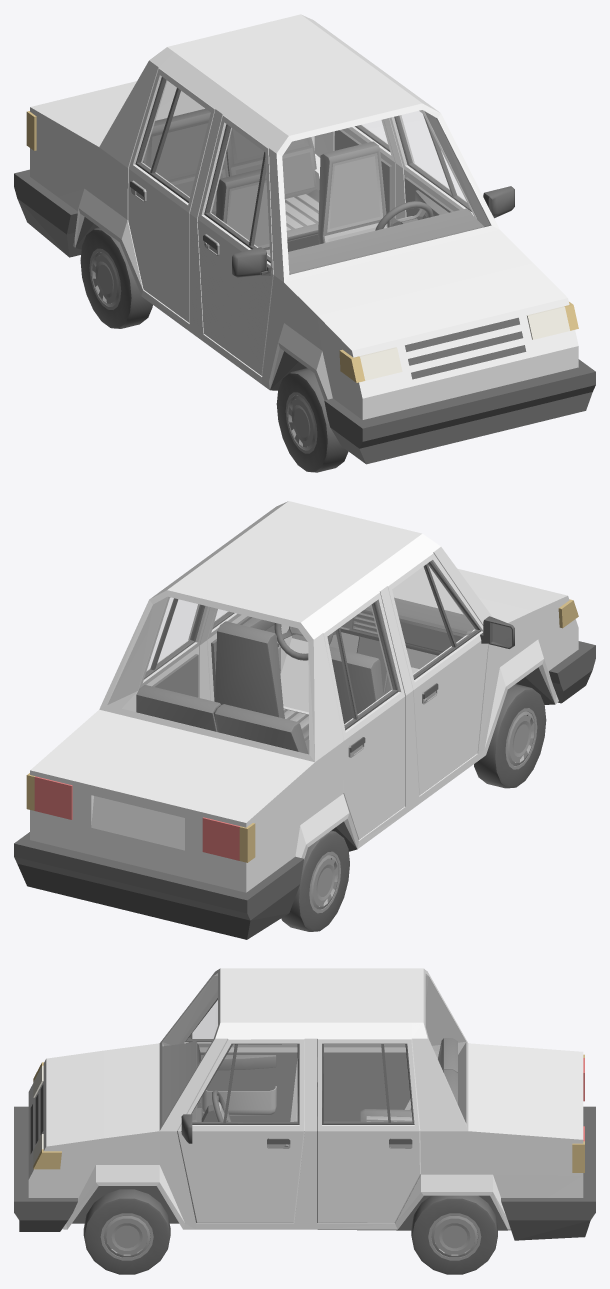
3 renders of one model, top to bottom at view 1: azimuth 30°, elevation 25°; view 2: azimuth 150°, elevation 25°; view 3: azimuth 270°, elevation 25°, orthographic. The views are drawn at different scales.
Visible parts, largest first — view 1: Chassis_Chassis_0, Windows_Windows_0, Chassis_Bumpers_0, Interior_InteriorPanel_0, FR_Door_Chassis_0, RR_Door_Chassis_0, Interior_Handler_0, RR_Door_Windows_0, FR_Door_Windows_0, FR_Wheel_Tire_0, RR_Wheel_Tire_0, FR_Door_Bumpers_0 (+11 smaller); view 2: Chassis_Chassis_0, Windows_Windows_0, Chassis_Bumpers_0, Interior_InteriorPanel_0, FR_Door_Chassis_0, RR_Door_Chassis_0, FR_Door_Windows_0, RR_Door_Windows_0, FR_Wheel_Tire_0, RR_Wheel_Tire_0, Brake_Lights_Brake_lights_0, FR_Door_Bumpers_0 (+11 smaller); view 3: Chassis_Chassis_0, FL_Door_Chassis_0, RL_Door_Chassis_0, Chassis_Bumpers_0, Windows_Windows_0, FL_Door_Windows_0, RL_Door_Windows_0, RR_Door_InteriorPanel_0, FL_Wheel_Tire_0, RL_Wheel_Tire_0, FR_Door_InteriorPanel_0, Interior_InteriorPanel_0 (+9 smaller).
Part boxes in pixels (left/top/right/bottom): Chassis_Chassis_0: left=30, top=14, right=578, bottom=419; Windows_Windows_0: left=156, top=82, right=489, bottom=273; Chassis_Bumpers_0: left=14, top=169, right=595, bottom=464; Interior_InteriorPanel_0: left=142, top=108, right=484, bottom=274; FR_Door_Chassis_0: left=197, top=115, right=273, bottom=375; RR_Door_Chassis_0: left=128, top=68, right=215, bottom=322; Interior_Handler_0: left=226, top=153, right=386, bottom=255; RR_Door_Windows_0: left=139, top=80, right=209, bottom=198; FR_Door_Windows_0: left=208, top=127, right=269, bottom=258; FR_Wheel_Tire_0: left=276, top=368, right=348, bottom=472; RR_Wheel_Tire_0: left=80, top=227, right=152, bottom=328; FR_Door_Bumpers_0: left=203, top=124, right=271, bottom=277; Chassis_Chassis_0: left=30, top=501, right=578, bottom=892; Windows_Windows_0: left=108, top=568, right=461, bottom=753; Chassis_Bumpers_0: left=14, top=641, right=595, bottom=939; Interior_InteriorPanel_0: left=136, top=601, right=473, bottom=754; FR_Door_Chassis_0: left=387, top=553, right=488, bottom=795; RR_Door_Chassis_0: left=323, top=592, right=405, bottom=839; FR_Door_Windows_0: left=392, top=563, right=477, bottom=675; RR_Door_Windows_0: left=328, top=604, right=395, bottom=726; FR_Wheel_Tire_0: left=474, top=684, right=546, bottom=788; RR_Wheel_Tire_0: left=281, top=830, right=349, bottom=931; Brake_Lights_Brake_lights_0: left=34, top=776, right=239, bottom=860; FR_Door_Bumpers_0: left=413, top=561, right=514, bottom=701; Chassis_Chassis_0: left=28, top=968, right=583, bottom=1229; FL_Door_Chassis_0: left=177, top=1038, right=304, bottom=1223; RL_Door_Chassis_0: left=317, top=1038, right=420, bottom=1223; Chassis_Bumpers_0: left=14, top=1085, right=595, bottom=1240; Windows_Windows_0: left=164, top=974, right=465, bottom=1120; FL_Door_Windows_0: left=192, top=1044, right=297, bottom=1122; RL_Door_Windows_0: left=324, top=1044, right=411, bottom=1121; RR_Door_InteriorPanel_0: left=324, top=1052, right=410, bottom=1121; FL_Wheel_Tire_0: left=83, top=1189, right=170, bottom=1274; RL_Wheel_Tire_0: left=411, top=1195, right=497, bottom=1274; FR_Door_InteriorPanel_0: left=200, top=1052, right=297, bottom=1121; Interior_InteriorPanel_0: left=162, top=1038, right=457, bottom=1123.
Size of the model in its own units: 5.2 by 4.99 by 11.18.
